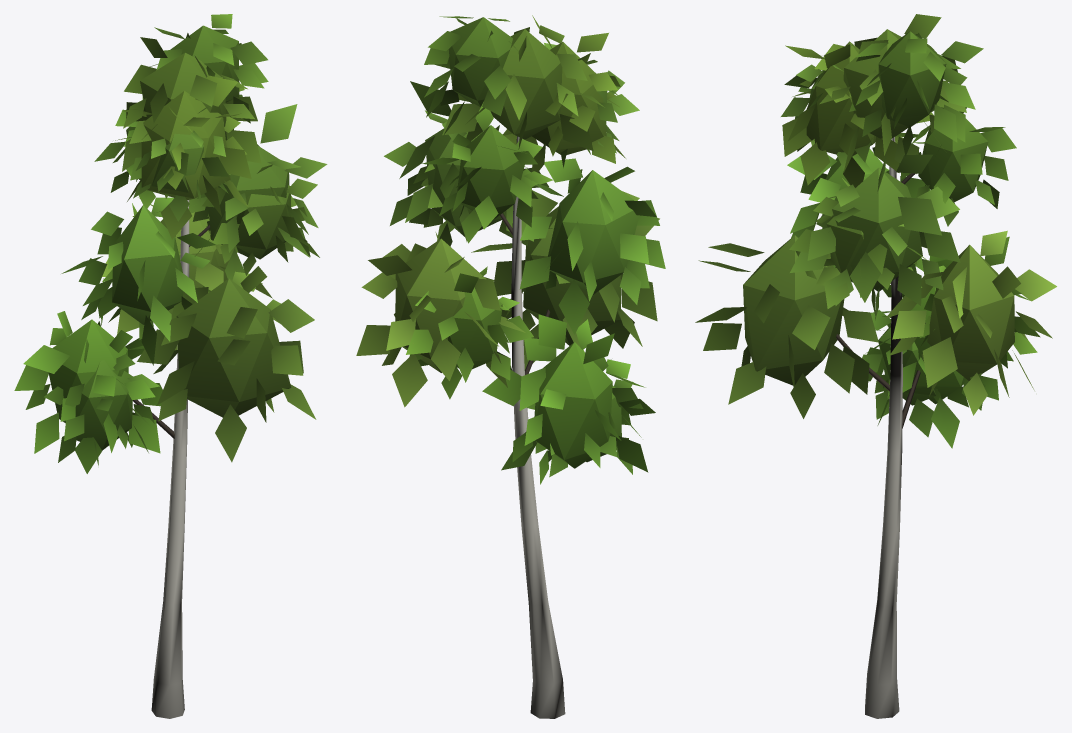
File: birch_a.glb
3 views of the same model, side by side, from view 1: azimuth 30°, elevation 25°; view 2: azimuth 150°, elevation 25°; view 3: azimuth 270°, elevation 25° (orthographic). The views are drawn at different scales.
Visible parts, largest first — view 1: birch_a; view 2: birch_a; view 3: birch_a.
Boxes of the visible parts, left/top/right/bottom form: birch_a: left=14, top=14, right=327, bottom=718; birch_a: left=356, top=15, right=665, bottom=718; birch_a: left=695, top=14, right=1056, bottom=718.
Bounding box in the file's own units: 3.54 × 8.34 × 3.89.
